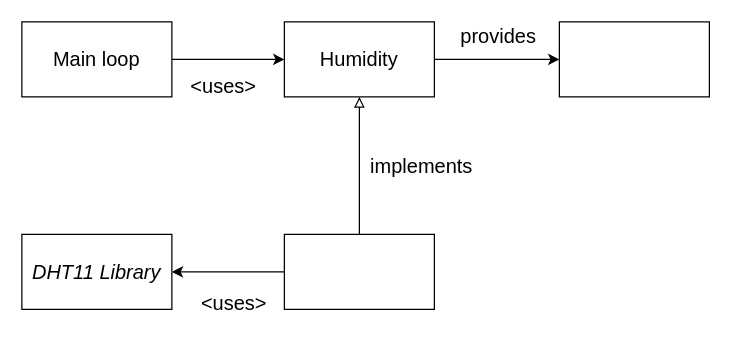
This 731x344 diagram has some shape labels left out. The shapes that lost their labels are listed below. From the top down, each one's centre as x and y in pixels, then its label:
At pixel 633 59: "getTemperature".
At pixel 358 271: "DHT11 repository".
